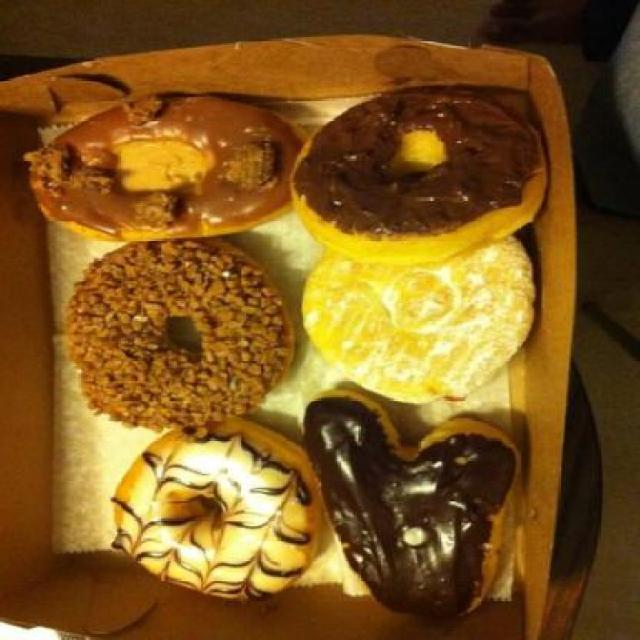Donuts: (21, 88, 514, 640)
